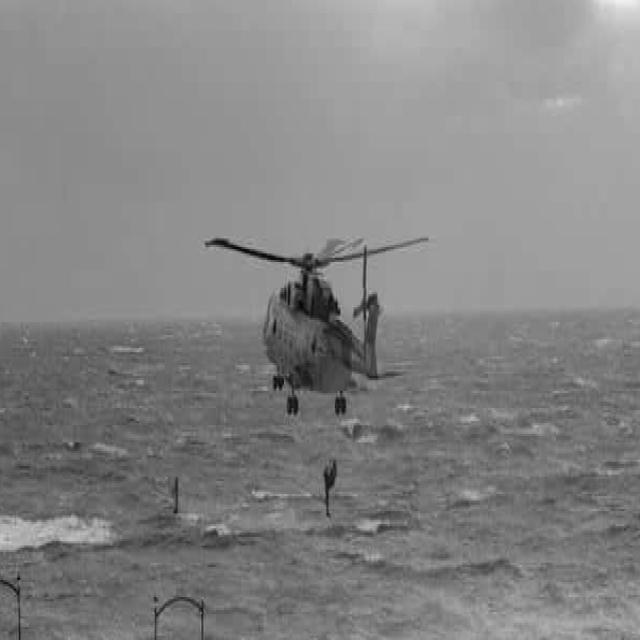helicopter: (202, 190, 427, 439)
